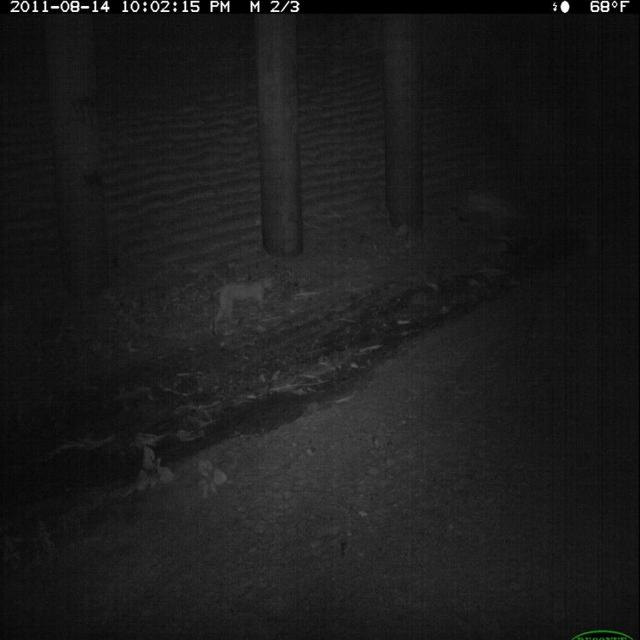bobcat: (209, 266, 279, 341)
